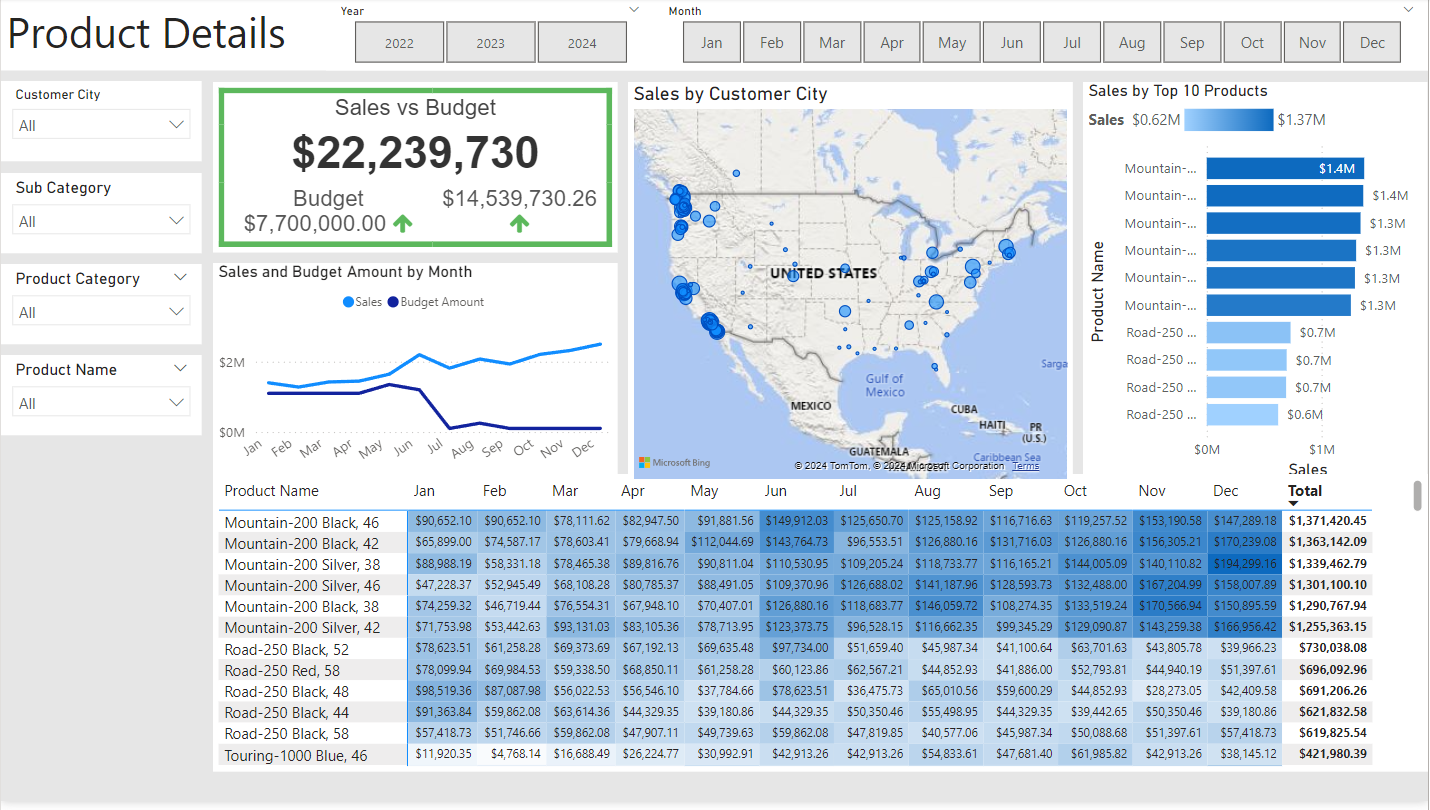

Layout of this report page (visuals, bound fields, positions):
{"tool":"powerbi","page":{"name":"Product Details","canvas":[1280,720],"ordinal":2},"visuals":[{"type":"textbox","box":[0,0,1280,65.2],"z":0},{"type":"slicer","fields":{"Values":["DIM_Customers.Customer City"]},"box":[0,74.9,179.9,72],"z":1000},{"type":"slicer","fields":{"Values":["DIM_Products.Sub Category"]},"box":[0,156.6,179.9,72],"z":2000},{"type":"slicer","fields":{"Values":["DIM_Products.Product Category"]},"box":[0,238.3,179.9,72],"z":3000},{"type":"slicer","fields":{"Values":["DIM_Products.Product Name"]},"box":[0,320,179.9,72],"z":4000},{"type":"slicer","fields":{"Values":["DIM_Calendar.Year"]},"box":[291.8,0,293.8,65.1],"z":5000},{"type":"slicer","fields":{"Values":["DIM_Calendar.MonthShort"]},"box":[585.6,0,694.4,65.1],"z":6000},{"type":"BBED0A4D4D8D44CE93CF2DAFADEE466C","fields":{"actual":["Key Measures.Sales"],"target1":["Key Measures.Budget Amount"],"target2":["Key Measures.Sales - Budget"]},"box":[190.2,75.3,363.3,153.4],"z":7000},{"type":"barChart","title":"Sales by Top 10 Products","fields":{"Y":["Key Measures.Sales"],"Category":["DIM_Products.Product Name"]},"box":[970.5,75.3,309.5,360.6],"z":9000},{"type":"pivotTable","fields":{"Values":["Key Measures.Sales"],"Columns":["DIM_Calendar.MonthShort"],"Rows":["DIM_Products.Product Name"]},"box":[190.2,444,1089.8,267.3],"z":10000},{"type":"map","fields":{"Category":["DIM_Customers.Customer City"],"Size":["Key Measures.Sales"]},"box":[562.4,75.3,399.2,360.6],"z":11000},{"type":"lineChart","title":"Sales and Budget Amount by Month","fields":{"Y":["Key Measures.Sales","Key Measures.Budget Amount"],"Category":["DIM_Calendar.MonthShort"]},"box":[190.2,237.7,363.3,198.2],"z":11001}]}

Visuals, with their boxes in screenshot pixels (x1, y1, x2, y2), scaled from the page's 1280x720 canvas onto the 1430x810 screenshot:
textbox: {"left": 0, "top": 0, "right": 1429, "bottom": 73}
slicer - DIM_Customers.Customer City: {"left": 0, "top": 84, "right": 201, "bottom": 165}
slicer - DIM_Products.Sub Category: {"left": 0, "top": 176, "right": 201, "bottom": 257}
slicer - DIM_Products.Product Category: {"left": 0, "top": 268, "right": 201, "bottom": 349}
slicer - DIM_Products.Product Name: {"left": 0, "top": 360, "right": 201, "bottom": 441}
slicer - DIM_Calendar.Year: {"left": 326, "top": 0, "right": 654, "bottom": 73}
slicer - DIM_Calendar.MonthShort: {"left": 654, "top": 0, "right": 1429, "bottom": 73}
BBED0A4D4D8D44CE93CF2DAFADEE466C - Key Measures.Sales x Key Measures.Budget Amount: {"left": 212, "top": 85, "right": 618, "bottom": 257}
"Sales by Top 10 Products" barChart: {"left": 1084, "top": 85, "right": 1429, "bottom": 490}
pivotTable - Key Measures.Sales x DIM_Calendar.MonthShort: {"left": 212, "top": 500, "right": 1429, "bottom": 800}
map - DIM_Customers.Customer City x Key Measures.Sales: {"left": 628, "top": 85, "right": 1074, "bottom": 490}
"Sales and Budget Amount by Month" lineChart: {"left": 212, "top": 267, "right": 618, "bottom": 490}
